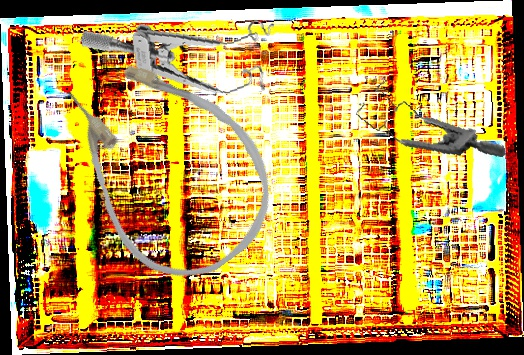Cannula: (31, 20, 303, 307)
Speculum: (79, 3, 284, 117), (351, 60, 506, 183)
